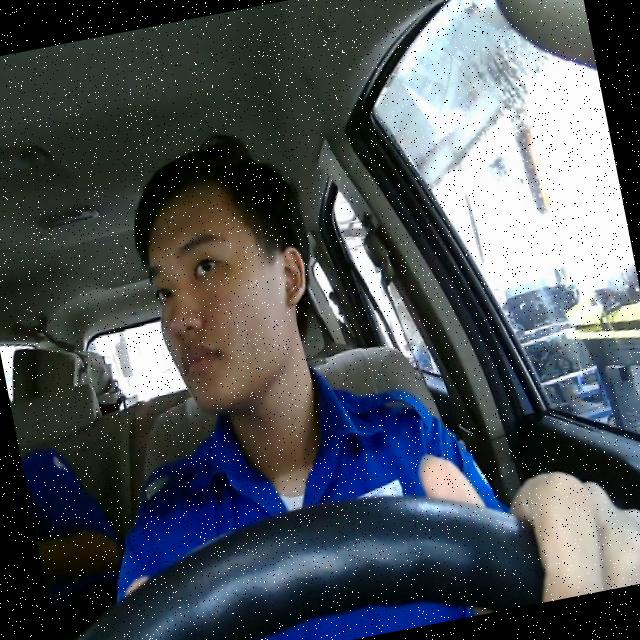seeing_left: (132, 161, 329, 420)
